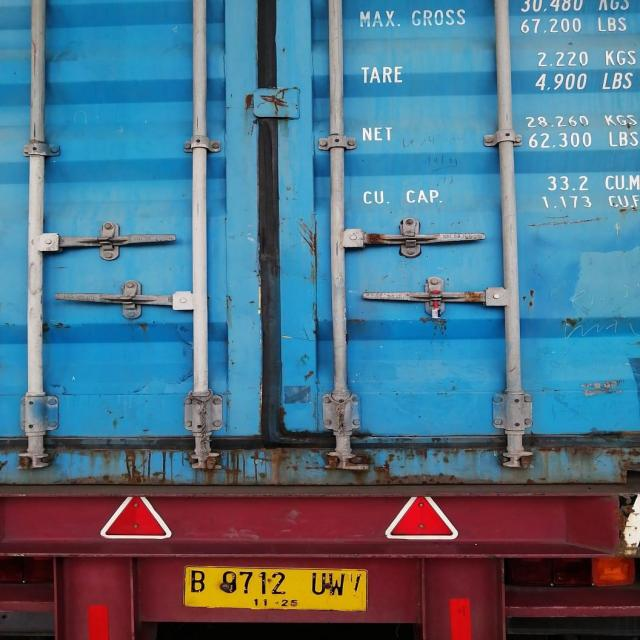seal: (428, 287, 443, 320)
